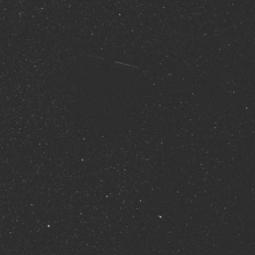proba_3_ocs: (70, 49, 160, 141)
